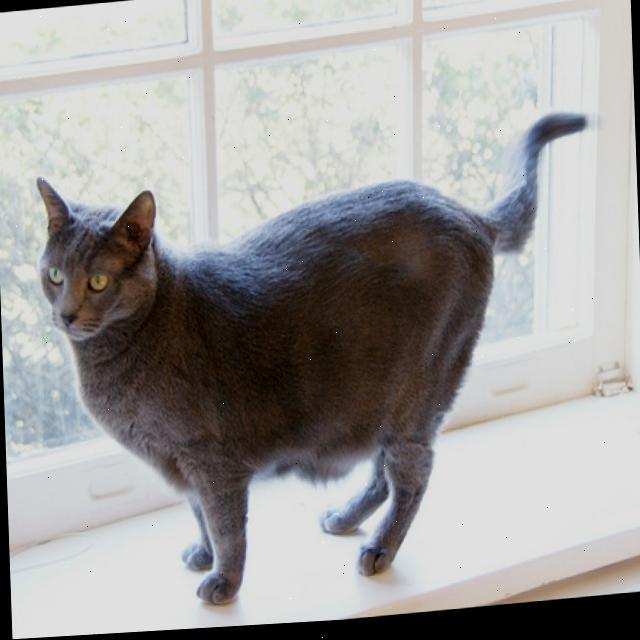Russian Blue: (27, 110, 605, 623)
